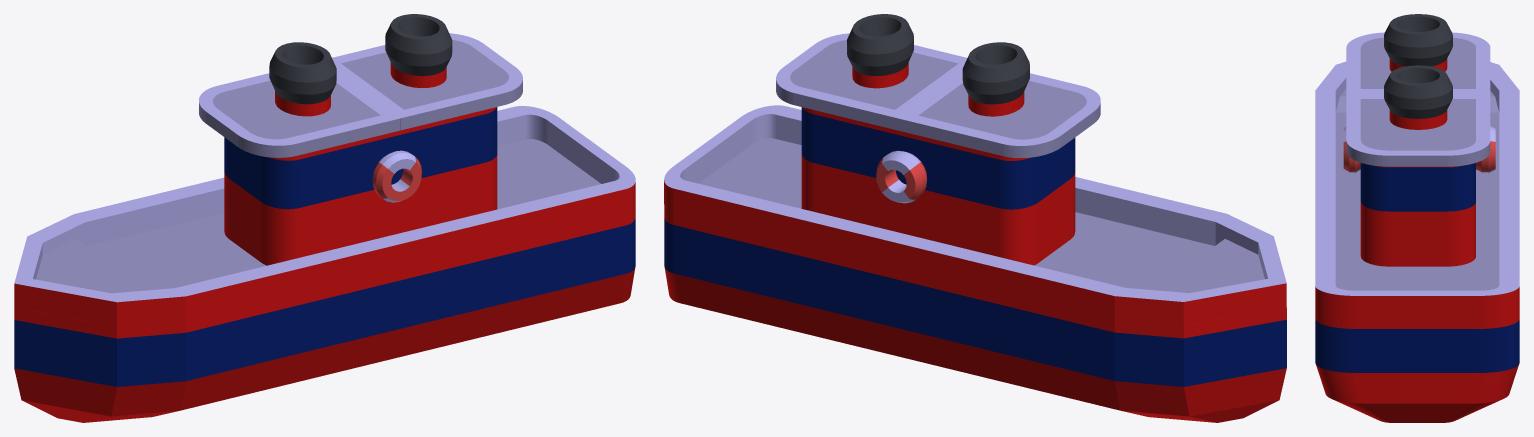
File: Boat.fbx
The picture shows the model from 3 angles, left to right: view 1: azimuth 30°, elevation 25°; view 2: azimuth 150°, elevation 25°; view 3: azimuth 270°, elevation 25°; orthographic projection. The views are drawn at different scales.
Visible parts, largest first — view 1: hull (×3), hut (×2), hut_roof (×2), rail (×3), hull_front, hull_back, rail_frontDeck, detail_chimneyShort (×2), rail_back, detail_tireEmergency; view 2: hull (×3), hut (×2), hut_roof (×2), rail (×3), hull_front, hull_back, rail_frontDeck, detail_chimneyShort (×2), rail_back, detail_tireEmergency; view 3: hull_back, hut_roof (×2), hut, rail_back, detail_chimneyShort (×2), rail (×3), hull (×3), rail_frontDeck, detail_tireEmergency (×2).
Part boxes in pixels (x1,y1,x2,y2): hull (×3): (86,213,533,410); hut (×2): (224,107,497,265); hut_roof (×2): (199,33,522,157); rail (×3): (74,177,533,320); hull_front: (14,308,185,422); hull_back: (497,139,635,325); rail_frontDeck: (14,214,185,326); detail_chimneyShort (×2): (269,14,452,116); rail_back: (497,106,635,235); detail_tireEmergency: (372,150,421,202); hull (×3): (766,212,1214,410); hut (×2): (801,107,1075,265); hut_roof (×2): (776,33,1100,157); rail (×3): (766,177,1226,320); hull_front: (1114,307,1286,422); hull_back: (664,138,801,325); rail_frontDeck: (1114,214,1286,326); detail_chimneyShort (×2): (847,14,1029,116); rail_back: (664,105,801,235); detail_tireEmergency: (876,150,927,203); hull_back: (1315,266,1519,422); hut_roof (×2): (1346,32,1490,166); hut: (1360,163,1475,266); rail_back: (1315,244,1519,317); detail_chimneyShort (×2): (1384,14,1452,129); rail (×3): (1315,90,1519,244); hull (×3): (1335,112,1499,266); rail_frontDeck: (1316,61,1518,112); detail_tireEmergency (×2): (1343,126,1495,173).
Size of the model in its own units: 50.01 by 25 by 16.8.
